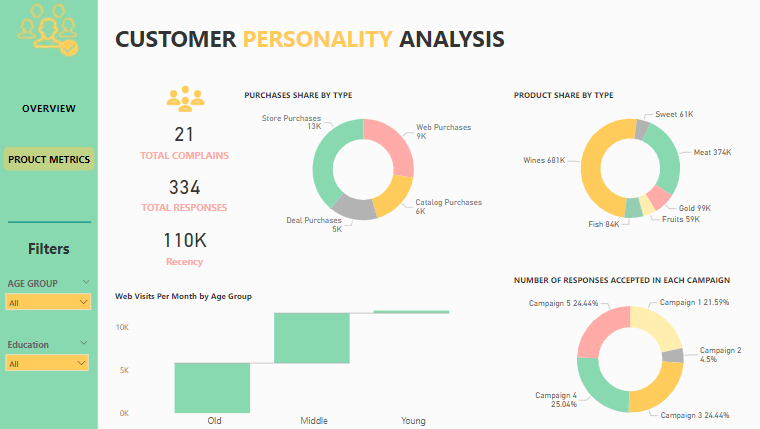

This screenshot's page, from the dashboard's own definition file:
{"tool":"powerbi","page":{"name":" Product Metrics","canvas":[1300,720],"ordinal":1},"visuals":[{"type":"waterfallChart","fields":{"Y":["Sum(marketing_campaign.NumWebVisitsMonth)"],"Category":["marketing_campaign.Age Group"]},"box":[209.5,465.3,634.4,235.6],"z":0},{"type":"textbox","box":[209.5,18.1,739.2,66.5],"z":1000},{"type":"donutChart","title":"PRODUCT SHARE BY TYPE","fields":{"Y":["Sum(marketing_campaign.Wines)","Sum(marketing_campaign.Sweet)","Sum(marketing_campaign.Meat)","Sum(marketing_campaign.Gold)","Sum(marketing_campaign.Fruits)","Sum(marketing_campaign.Fish)"]},"box":[868.1,132.9,394.8,243.7],"z":2000},{"type":"donutChart","title":" PURCHASES SHARE BY TYPE ","fields":{"Y":["Sum(marketing_campaign.Store Purchases)","Sum(marketing_campaign.Web Purchases)","Sum(marketing_campaign.Catalog Purchases)","Sum(marketing_campaign.Deal Purchases)"]},"box":[423,132.9,402.8,247.7],"z":3000},{"type":"donutChart","title":"NUMBER OF RESPONSES ACCEPTED IN EACH CAMPAIGN","fields":{"Y":["Sum(marketing_campaign.Campaign 1)","Sum(marketing_campaign.Campaign 2)","Sum(marketing_campaign.Campaign 3)","Sum(marketing_campaign.Campaign 4)","Sum(marketing_campaign.Campaign 5)"]},"box":[868.1,439.1,394.8,261.8],"z":4000},{"type":"card","fields":{"Values":["Sum(marketing_campaign.Complain)"]},"box":[245.7,175.2,167.2,80.6],"z":5000},{"type":"card","fields":{"Values":["Sum(marketing_campaign.Response)"]},"box":[245.7,257.8,167.2,88.6],"z":6000},{"type":"image","box":[263.8,106.7,132.9,82.6],"z":7000},{"type":"card","fields":{"Values":["Sum(marketing_campaign.Recency)"]},"box":[245.7,346.4,167.2,88.6],"z":8000},{"type":"actionButton","title":"Overview 1","box":[30.2,143,151.1,40.3],"z":9000},{"type":"actionButton","title":"Product Metrics 1","box":[30.2,227.6,151.1,40.3],"z":10000},{"type":"shape","box":[38.3,330.3,137,44.3],"z":11000},{"type":"textbox","box":[24.2,374.6,161.1,44.3],"z":12000},{"type":"slicer","fields":{"Values":["marketing_campaign.Age Group"]},"box":[24.2,439.1,161.1,64.5],"z":13000},{"type":"slicer","fields":{"Values":["marketing_campaign.Education"]},"box":[24.2,539.8,157.1,60.4],"z":14000}]}

Visuals, with their boxes in screenshot pixels (x1, y1, x2, y2), scaled from the page's 1300x720 canvas onto the 760x429 screenshot:
waterfallChart - Sum(marketing_campaign.NumWebVisitsMonth) x marketing_campaign.Age Group: {"x1": 122, "y1": 277, "x2": 493, "y2": 418}
textbox: {"x1": 122, "y1": 11, "x2": 555, "y2": 50}
"PRODUCT SHARE BY TYPE" donutChart: {"x1": 508, "y1": 79, "x2": 738, "y2": 224}
" PURCHASES SHARE BY TYPE " donutChart: {"x1": 247, "y1": 79, "x2": 483, "y2": 227}
"NUMBER OF RESPONSES ACCEPTED IN EACH CAMPAIGN" donutChart: {"x1": 508, "y1": 262, "x2": 738, "y2": 418}
card - Sum(marketing_campaign.Complain): {"x1": 144, "y1": 104, "x2": 241, "y2": 152}
card - Sum(marketing_campaign.Response): {"x1": 144, "y1": 154, "x2": 241, "y2": 206}
image: {"x1": 154, "y1": 64, "x2": 232, "y2": 113}
card - Sum(marketing_campaign.Recency): {"x1": 144, "y1": 206, "x2": 241, "y2": 259}
"Overview 1" actionButton: {"x1": 18, "y1": 85, "x2": 106, "y2": 109}
"Product Metrics 1" actionButton: {"x1": 18, "y1": 136, "x2": 106, "y2": 160}
shape: {"x1": 22, "y1": 197, "x2": 102, "y2": 223}
textbox: {"x1": 14, "y1": 223, "x2": 108, "y2": 250}
slicer - marketing_campaign.Age Group: {"x1": 14, "y1": 262, "x2": 108, "y2": 300}
slicer - marketing_campaign.Education: {"x1": 14, "y1": 322, "x2": 106, "y2": 358}
